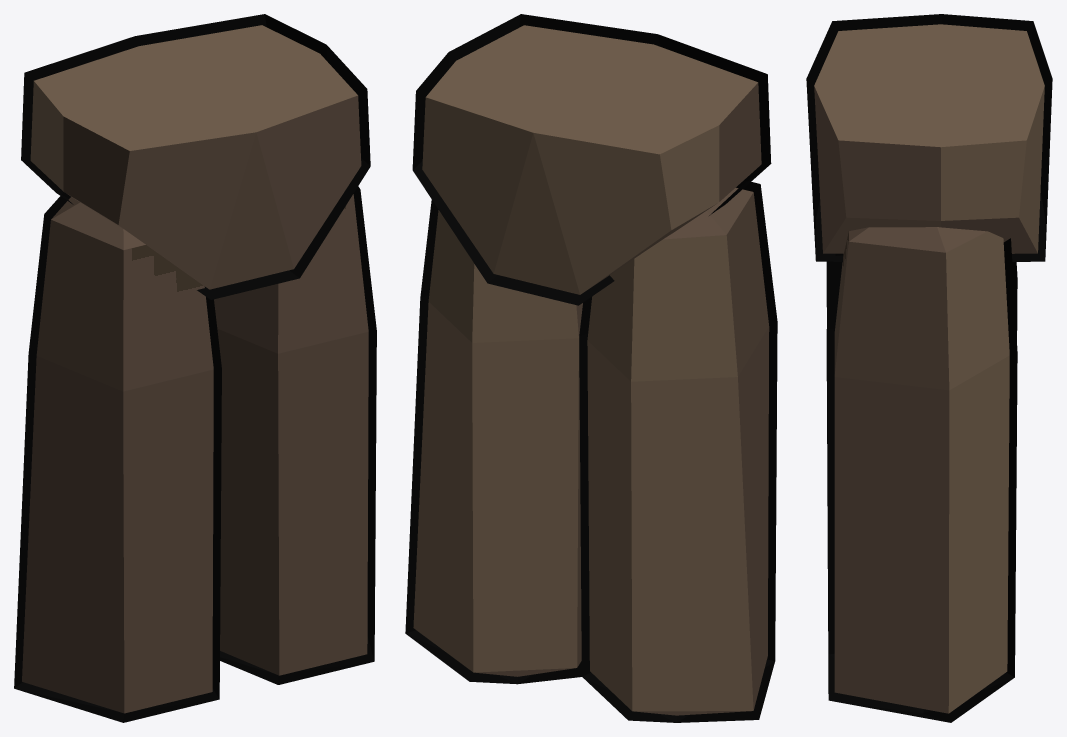
The model's file is Shorts_Brown.gltf.
The picture shows the model from 3 angles, left to right: view 1: azimuth 30°, elevation 25°; view 2: azimuth 150°, elevation 25°; view 3: azimuth 270°, elevation 25°; orthographic projection. The views are drawn at different scales.
Visible parts, largest first — view 1: Shorts.L, Shorts, Shorts.R, Shorts.LOutline, ShortsOutline, Shorts.ROutline; view 2: Shorts.L, Shorts, Shorts.R, Shorts.LOutline, ShortsOutline, Shorts.ROutline; view 3: Shorts.R, Shorts, Shorts.ROutline, ShortsOutline, Shorts.LOutline.
Part boxes in pixels (box(x1,y1,x2,y2)): Shorts.L: box(22, 197, 213, 713); Shorts: box(30, 25, 361, 289); Shorts.R: box(214, 194, 368, 675); Shorts.LOutline: box(14, 192, 221, 722); ShortsOutline: box(21, 14, 370, 299); Shorts.ROutline: box(220, 186, 376, 684); Shorts.L: box(587, 187, 769, 715); Shorts: box(422, 25, 761, 294); Shorts.R: box(413, 210, 582, 676); Shorts.LOutline: box(579, 180, 777, 722); ShortsOutline: box(412, 14, 771, 305); Shorts.ROutline: box(405, 199, 581, 684); Shorts.R: box(834, 227, 1009, 713); Shorts: box(814, 24, 1044, 253); Shorts.ROutline: box(826, 238, 1017, 722); ShortsOutline: box(806, 14, 1052, 261); Shorts.LOutline: box(826, 261, 1017, 339).
Size of the model in its own units: 0.3149 by 0.5316 by 0.1984.
2 materials, 2 textured.
